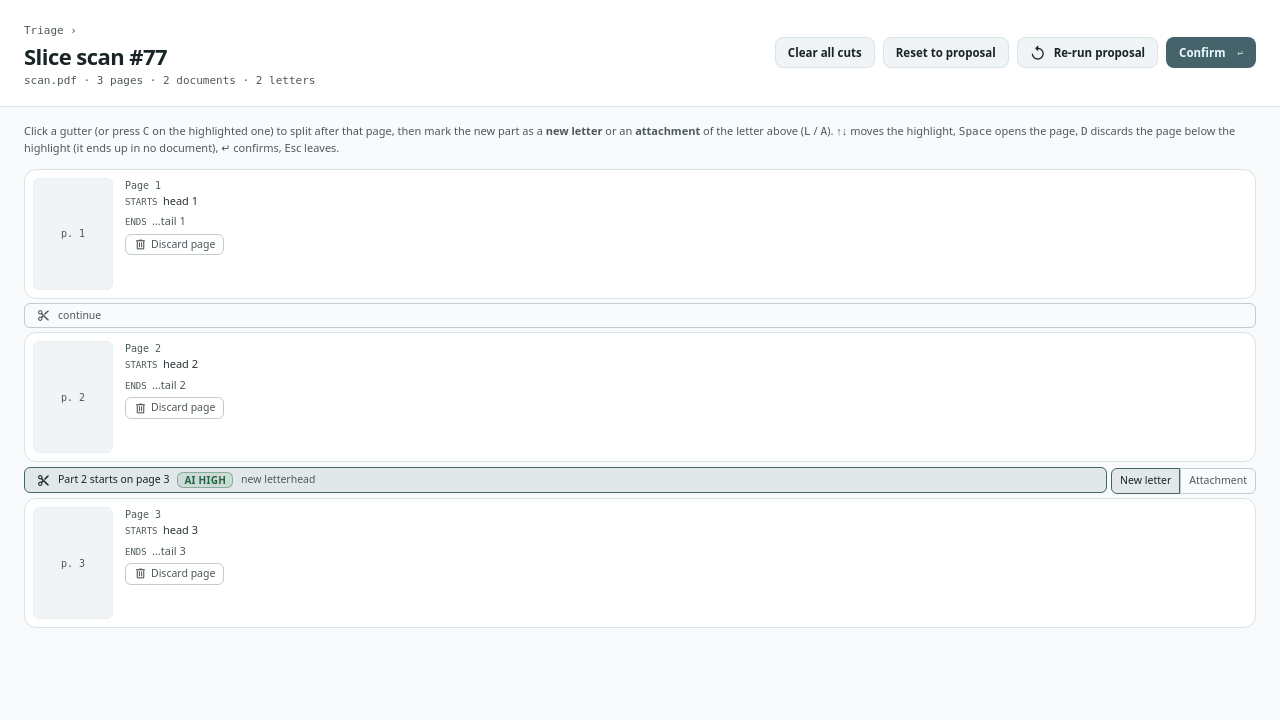
Test case: the page viewer flips with arrow keys, sets cuts, and Esc only closes it
Click the button named "Open page 1" at (73, 234), box [33,178,113,290]
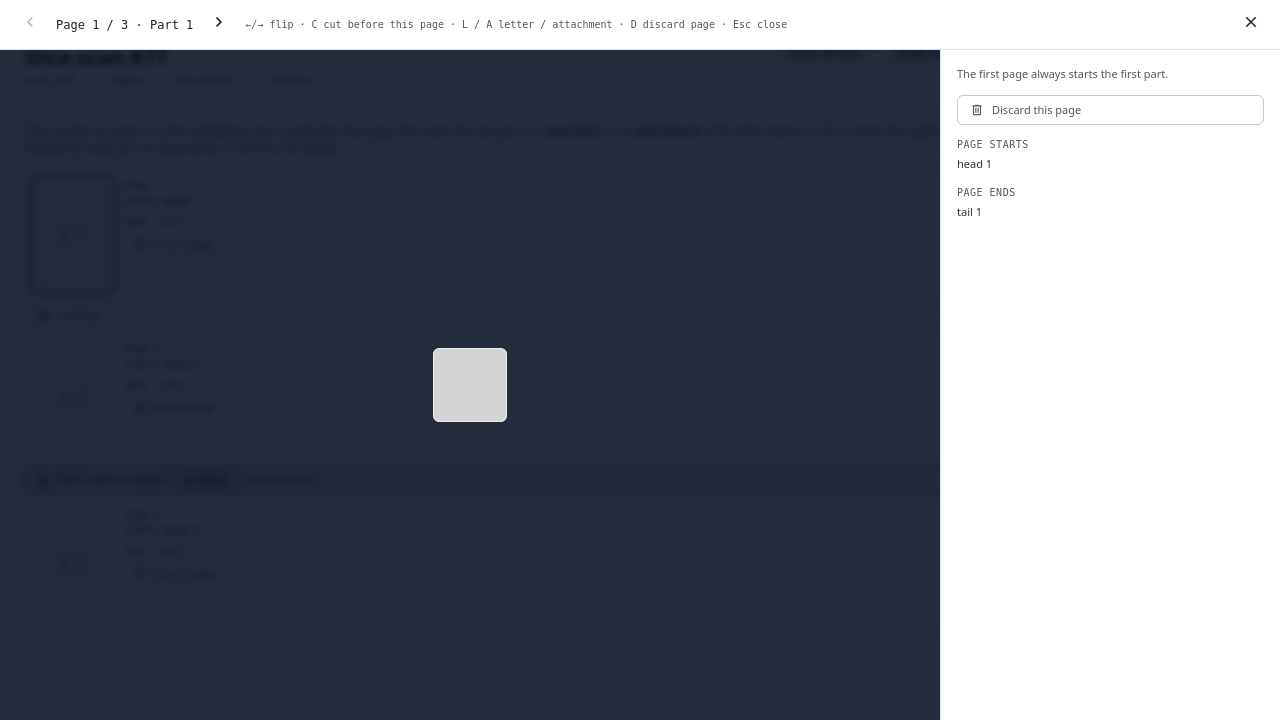
Expected: the dialog named "Page 1 of 3" is shown
Press Arrowright
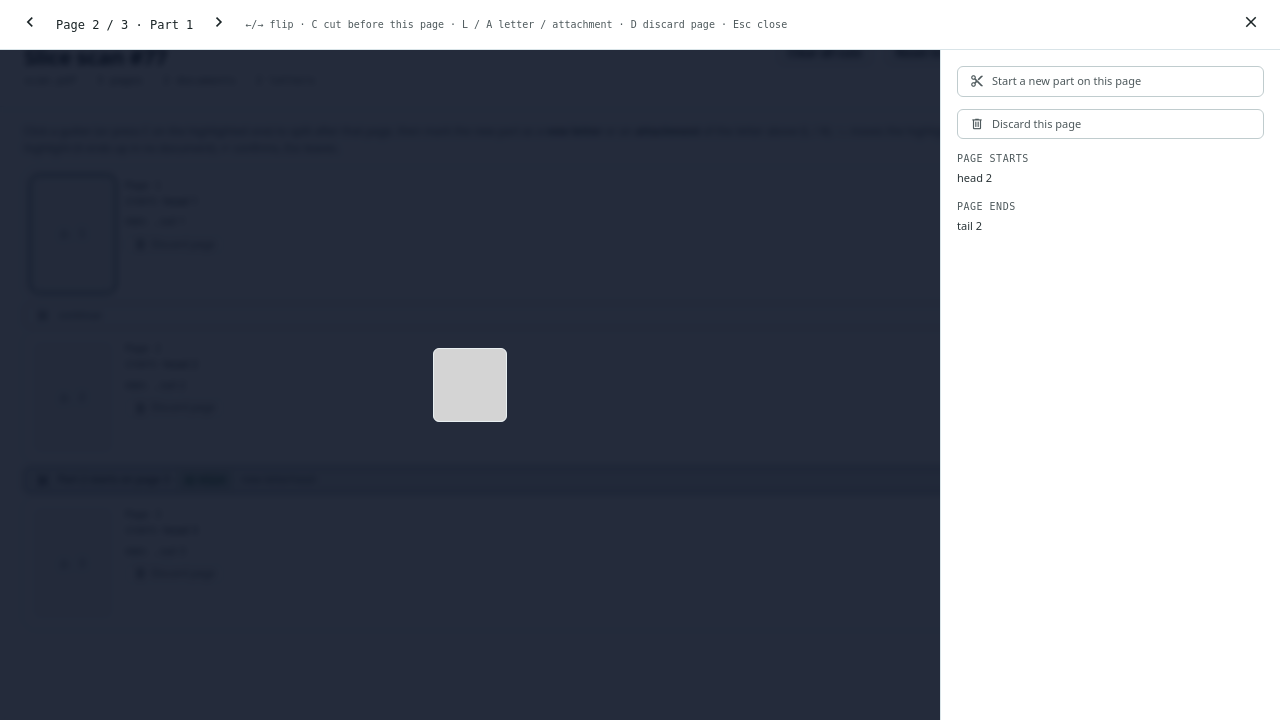
Expected: the dialog named "Page 2 of 3" is shown
// c toggles the cut before page 2 (after page 1)
Type keys "c"
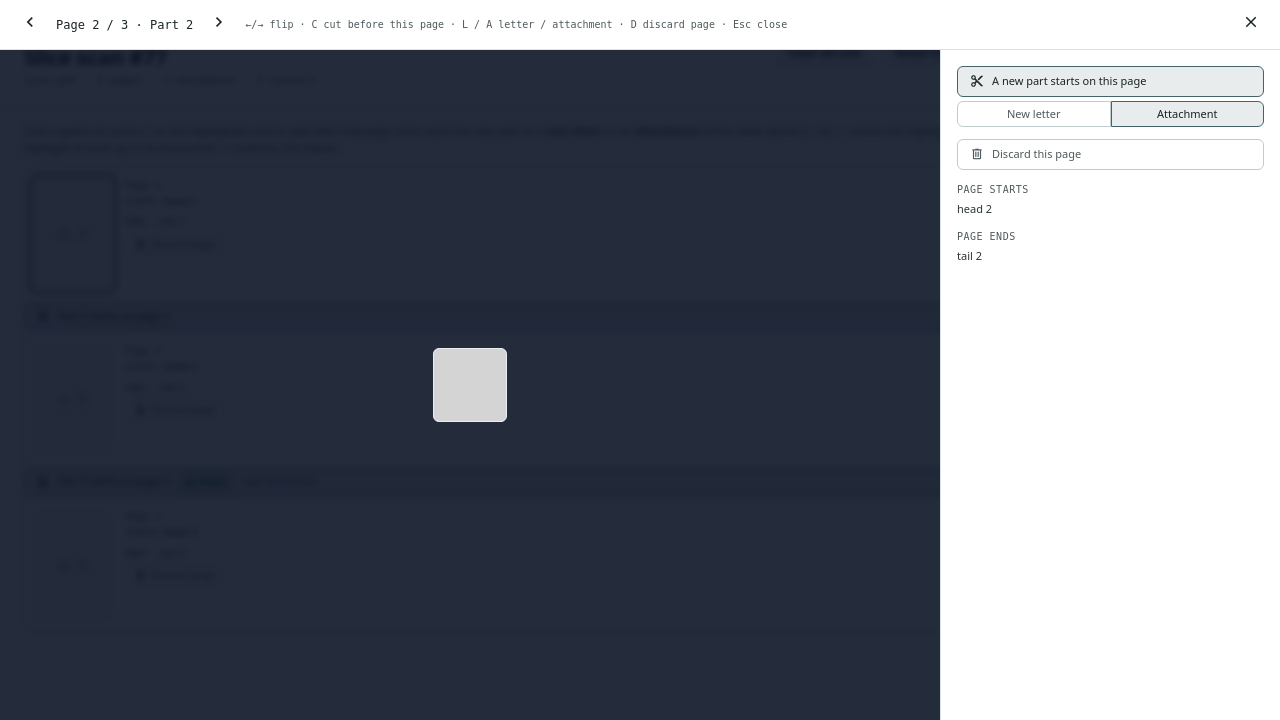
Expected: the button "A new part starts on this page" is shown, [957,66,1264,96]
Press Enter
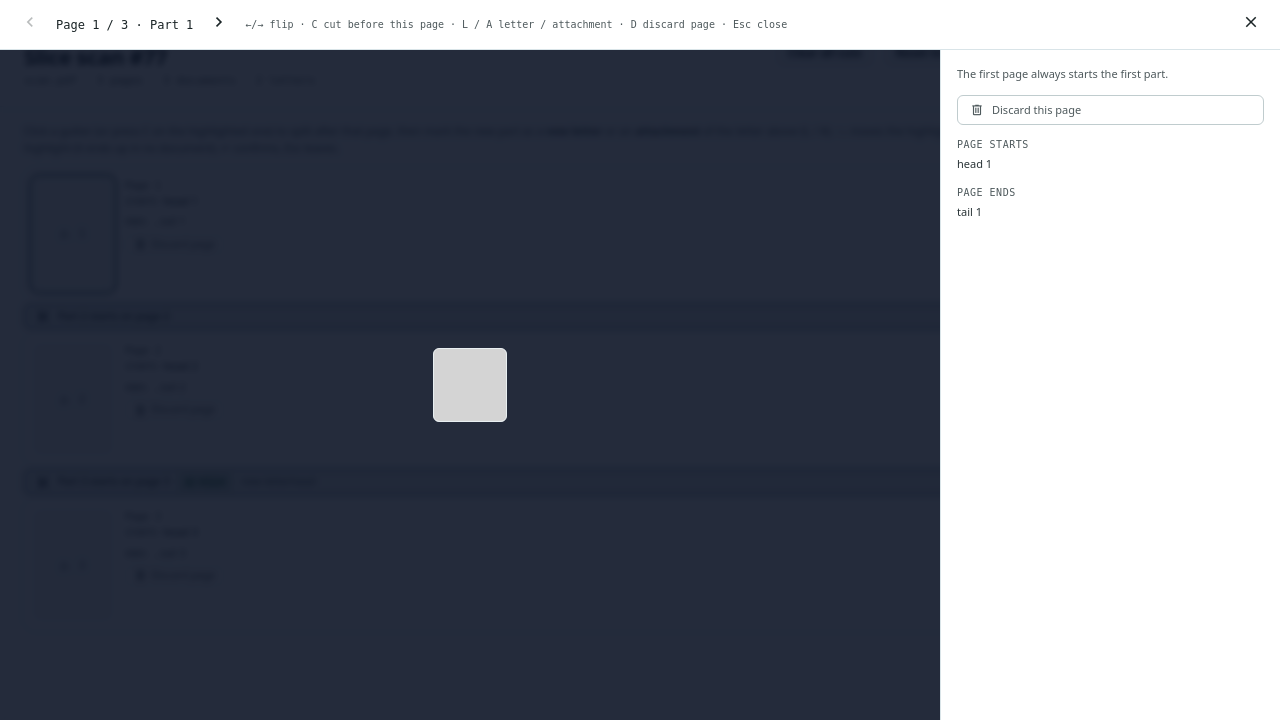
Press Escape
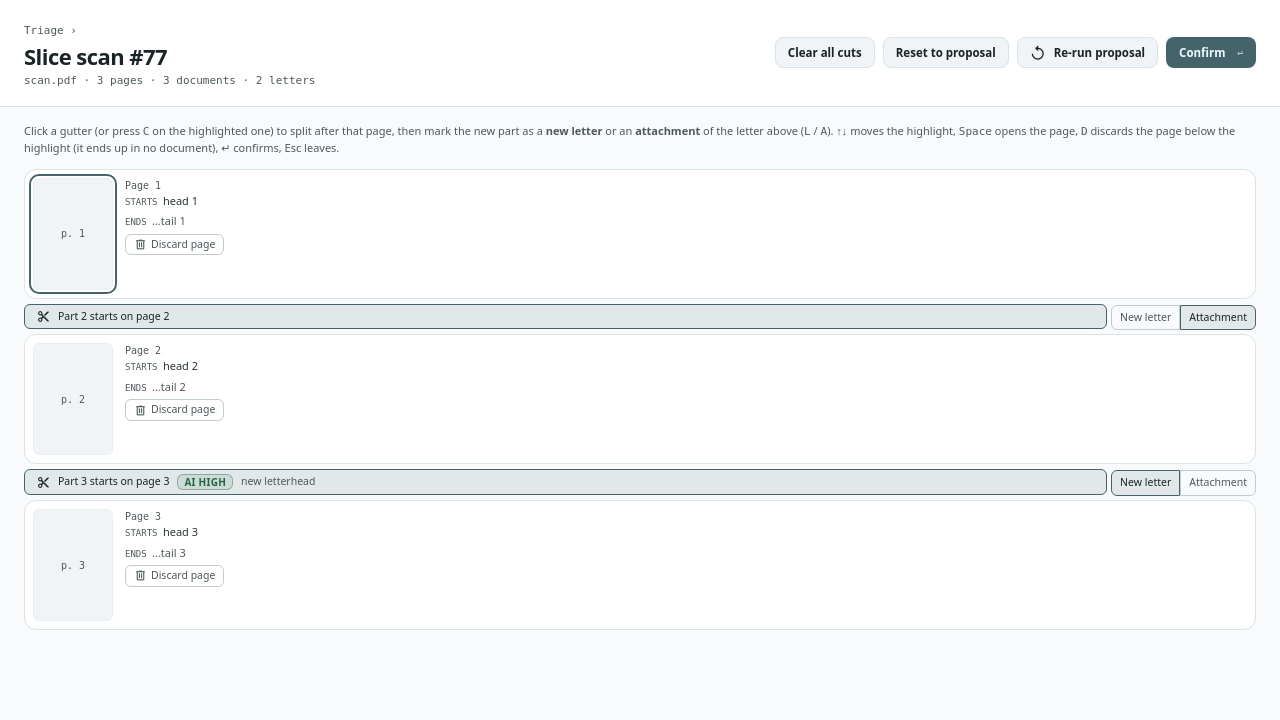
Expected: the text "scan.pdf · 3 pages · 3 documents · 2 letters" is shown, [24,73,315,90]
Expected: the dialog is gone
